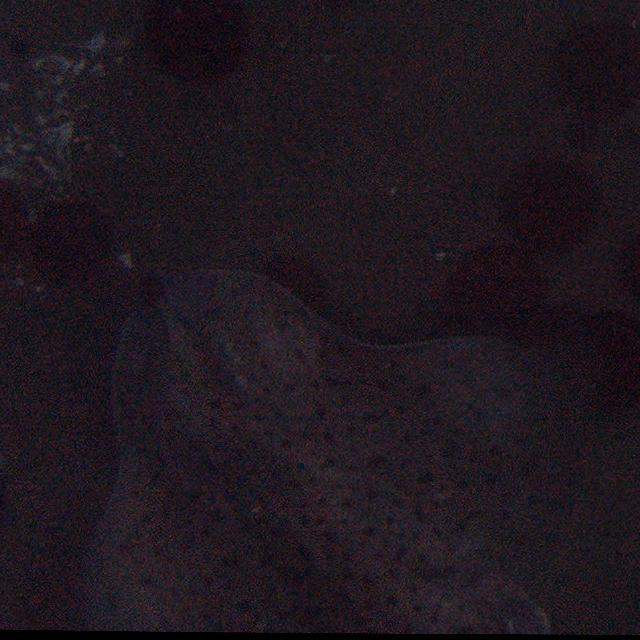skate: (101, 258, 559, 636)
